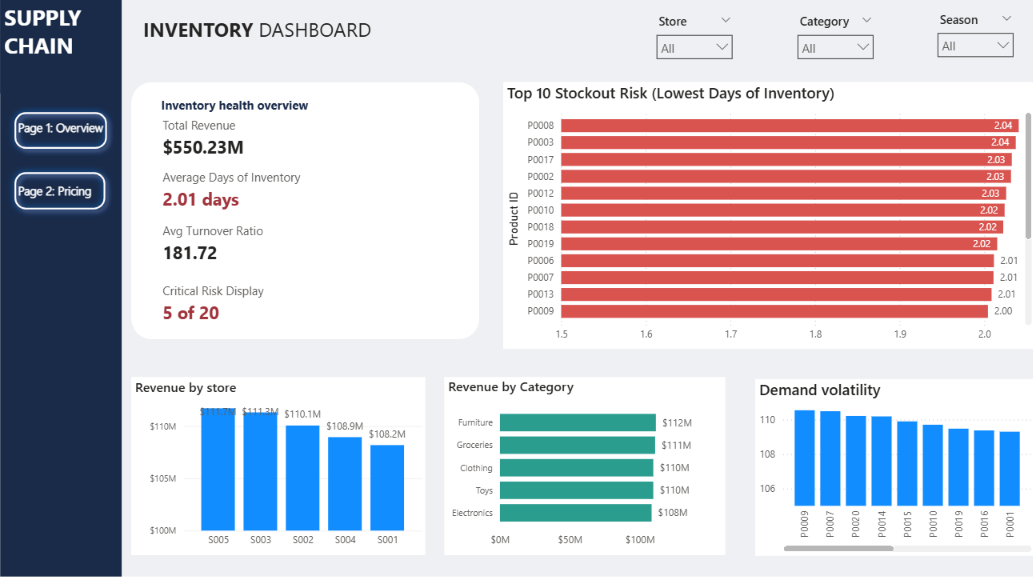

This screenshot's page, from the dashboard's own definition file:
{"tool":"powerbi","page":{"name":"Page 1","canvas":[1280,720],"ordinal":0},"visuals":[{"type":"shape","box":[1.2,1.2,150,718.8],"z":0},{"type":"shape","box":[162.4,106.3,429.9,317.7],"z":1000},{"type":"textbox","box":[172.9,19.9,398.3,65.4],"z":2000},{"type":"textbox","box":[1.2,2.5,148.8,117.5],"z":3000},{"type":"clusteredBarChart","title":"Top 10 Stockout Risk (Lowest Days of Inventory)","fields":{"Category":["Cleaned_data1.Product ID","Cleaned_data1.Store ID"],"Y":["Cleaned_data1.DOI Value"]},"box":[622.6,106.3,657.6,329.4],"z":4000},{"type":"cardVisual","fields":{"Data":["Cleaned_data1.Total Revenue"]},"box":[173.1,134.2,301.9,83.5],"z":4000,"group":"g1"},{"type":"textbox","box":[195.4,120.3,258.8,93.2],"z":5000,"group":"g1"},{"type":"clusteredColumnChart","title":"Revenue by store","fields":{"Category":["Cleaned_data1.Store ID"],"Y":["Cleaned_data1.Total Revenue"]},"box":[162.4,470.7,363.3,219.6],"z":5000},{"type":"cardVisual","fields":{"Data":["Cleaned_data1.Avg Turnover Ratio"]},"box":[173.1,263.1,301.9,83.5],"z":6000,"group":"g1"},{"type":"clusteredBarChart","title":" Revenue by Category","fields":{"Category":["Cleaned_data1.Category"],"Y":["Cleaned_data1.Total Revenue"]},"box":[549,470.7,346.9,219.6],"z":6000},{"type":"cardVisual","fields":{"Data":["Cleaned_data1.Critical Risk Display"]},"box":[172.9,337.2,302.3,83.7],"z":7000,"group":"g1"},{"type":"columnChart","title":"Demand volatility ","fields":{"Category":["Cleaned_data1.Product ID"],"Y":["Cleaned_data1.Sales Volatility"]},"box":[933.8,472.5,346.2,218.8],"z":7000},{"type":"slicer","fields":{"Values":["Cleaned_data1.Store ID"]},"box":[801.6,21.1,112.3,66.7],"z":8000},{"type":"cardVisual","fields":{"Data":["Cleaned_data1.Average Days of Inventory"]},"box":[173.1,198.7,301.9,83.5],"z":8000,"group":"g1"},{"type":"group","id":"g1","title":"Group 1","box":[172.9,120.3,302.5,301.4],"z":9000},{"type":"actionButton","box":[9.7,208.8,130.1,63.7],"z":9500},{"type":"slicer","fields":{"Values":["Cleaned_data1.Category"]},"box":[974.8,21.1,112.3,66.7],"z":10000},{"type":"slicer","fields":{"Values":["Cleaned_data1.Seasonality"]},"box":[1148,18.7,112.3,66.7],"z":11000},{"type":"actionButton","box":[9.9,134.6,132.1,63],"z":12000},{"type":"textbox","box":[18.1,147.5,123.3,39.9],"z":13000},{"type":"textbox","box":[18.5,224.7,106.2,40.7],"z":14000}]}

Visuals, with their boxes on the page's 1280x720 design canvas (x1, y1, x2, y2). These are canvas units, not pixel positions in the 1033x577 screenshot, which may show the page scaled, cropped or inside an application window:
shape: Rect(1, 1, 151, 720)
shape: Rect(162, 106, 592, 424)
textbox: Rect(173, 20, 571, 85)
textbox: Rect(1, 2, 150, 120)
"Top 10 Stockout Risk (Lowest Days of Inventory)" clusteredBarChart: Rect(623, 106, 1280, 436)
cardVisual - Cleaned_data1.Total Revenue: Rect(173, 134, 475, 218)
textbox: Rect(195, 120, 454, 214)
"Revenue by store" clusteredColumnChart: Rect(162, 471, 526, 690)
cardVisual - Cleaned_data1.Avg Turnover Ratio: Rect(173, 263, 475, 347)
" Revenue by Category" clusteredBarChart: Rect(549, 471, 896, 690)
cardVisual - Cleaned_data1.Critical Risk Display: Rect(173, 337, 475, 421)
"Demand volatility " columnChart: Rect(934, 472, 1280, 691)
slicer - Cleaned_data1.Store ID: Rect(802, 21, 914, 88)
cardVisual - Cleaned_data1.Average Days of Inventory: Rect(173, 199, 475, 282)
"Group 1" group: Rect(173, 120, 475, 422)
actionButton: Rect(10, 209, 140, 272)
slicer - Cleaned_data1.Category: Rect(975, 21, 1087, 88)
slicer - Cleaned_data1.Seasonality: Rect(1148, 19, 1260, 85)
actionButton: Rect(10, 135, 142, 198)
textbox: Rect(18, 148, 141, 187)
textbox: Rect(18, 225, 125, 265)
